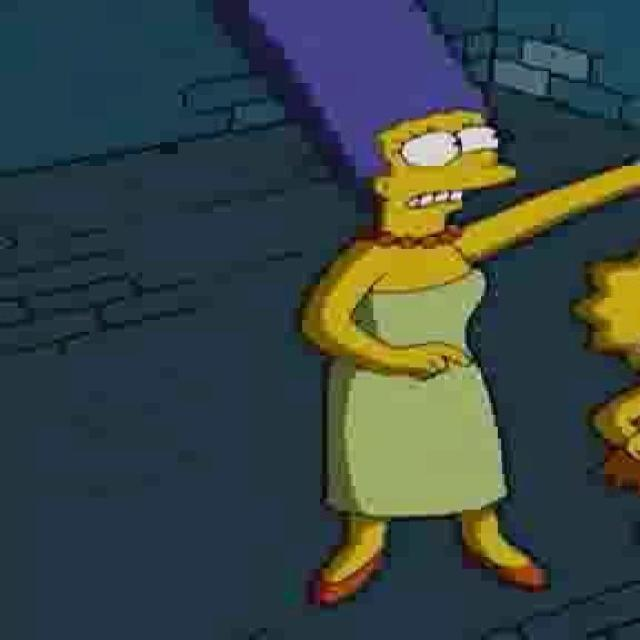Marge Simpson: (210, 0, 523, 243)
